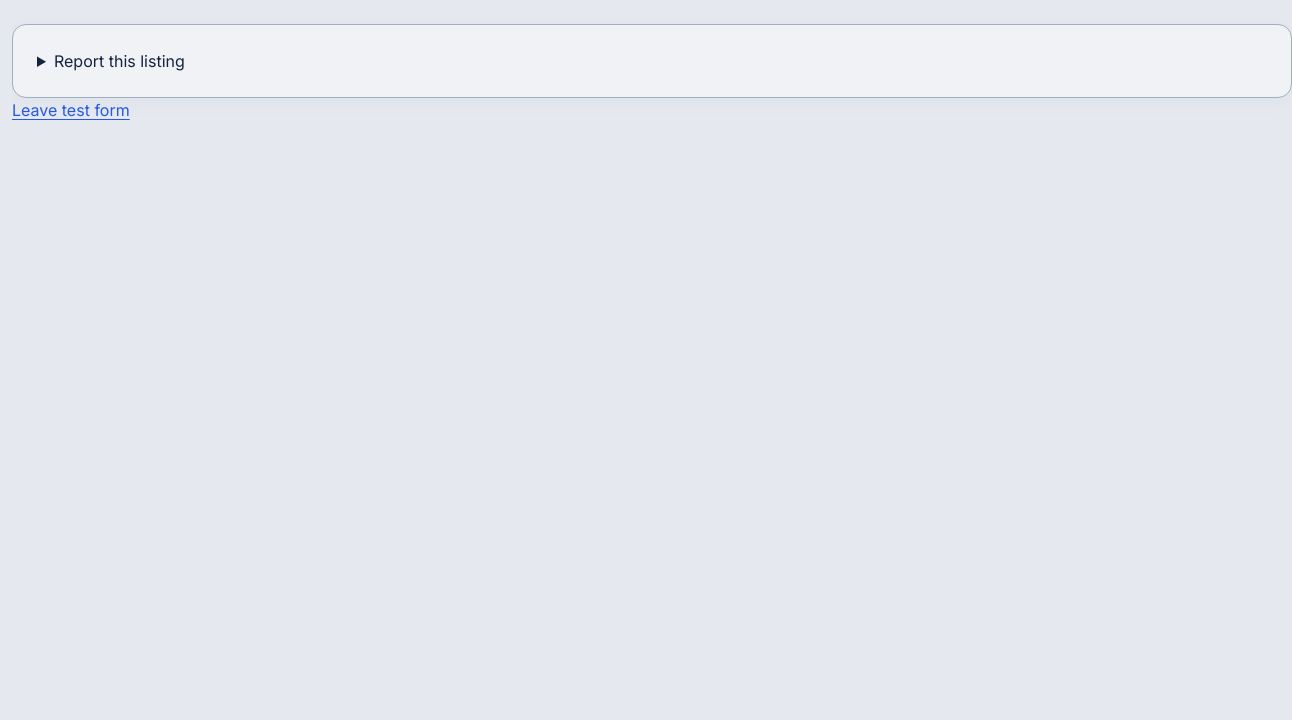
Test: moderation controls › reuses a report identifier after a failed request and shows success accessibly
The image size is (1292, 720).
Click the heading "Report this listing".
click(119, 61)  # box 54,51 -> 185,71
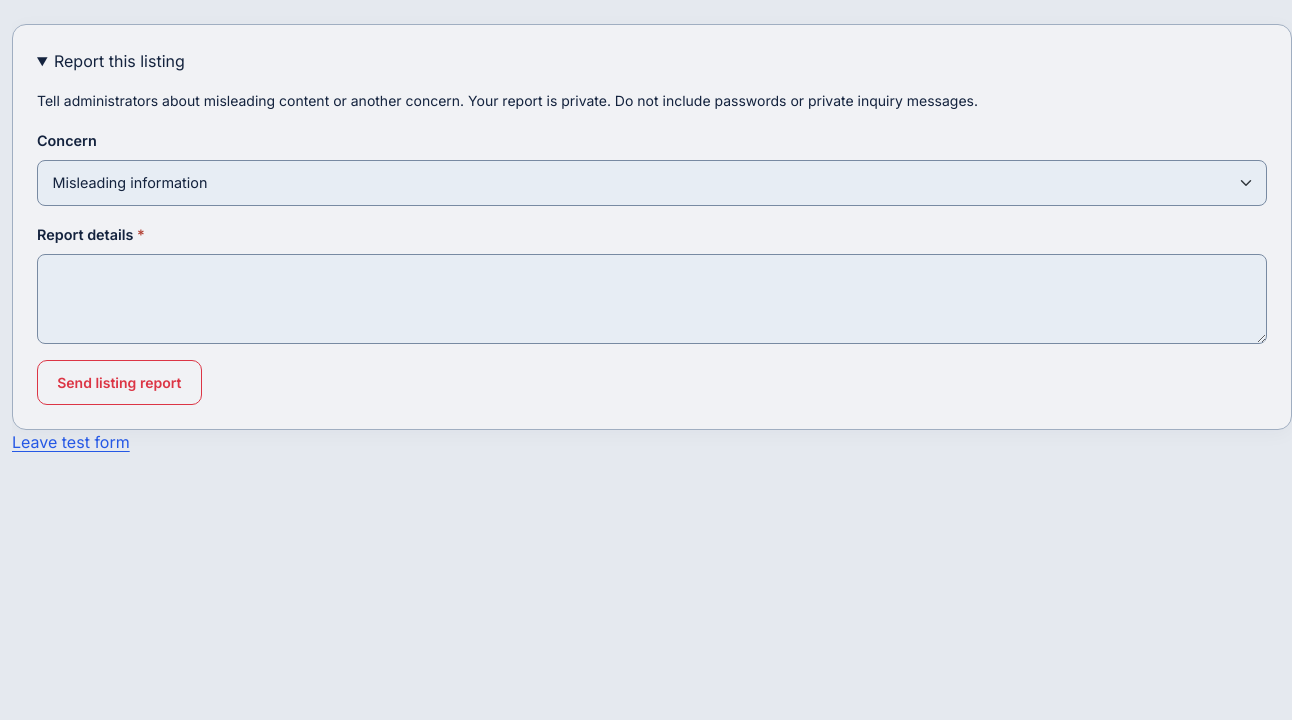
Type "Synthetic concern to review." into the text box labelled "Report details".
click(652, 299); type("Synthetic concern to review.")  # box 37,254 -> 1267,344
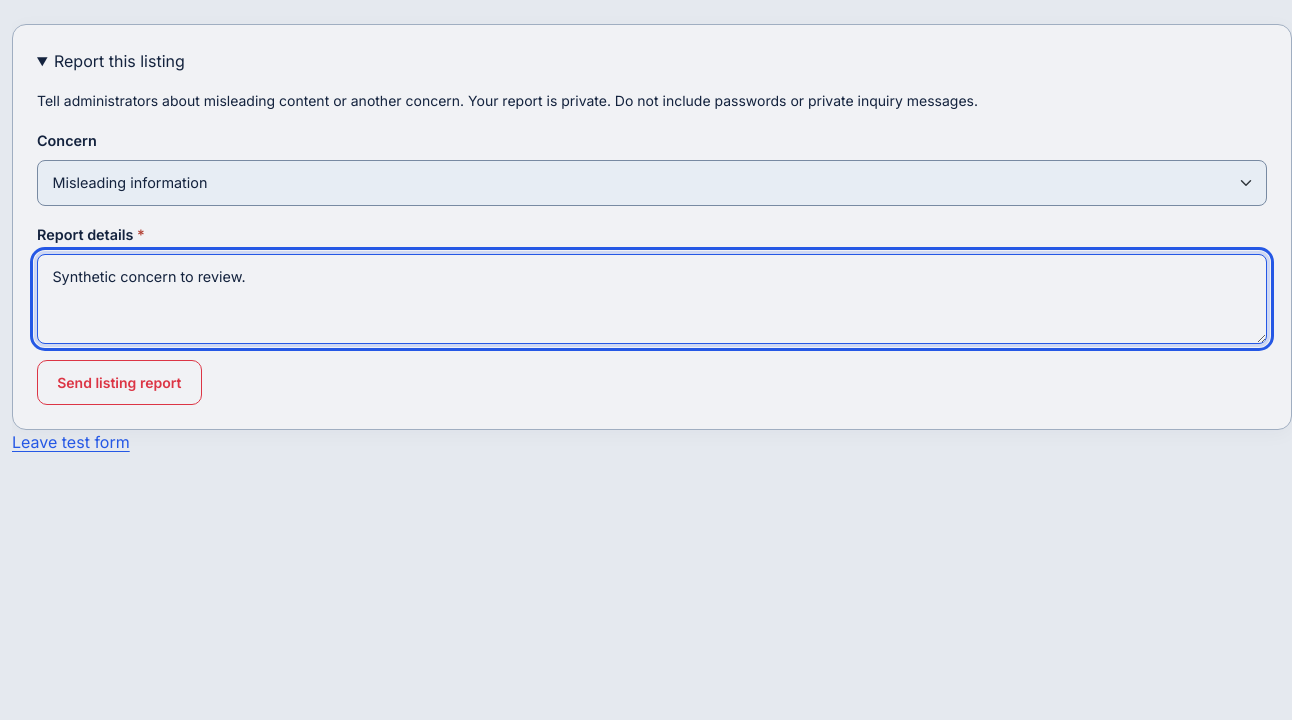
Click the button "Send listing report".
click(119, 382)  # box 37,360 -> 202,405
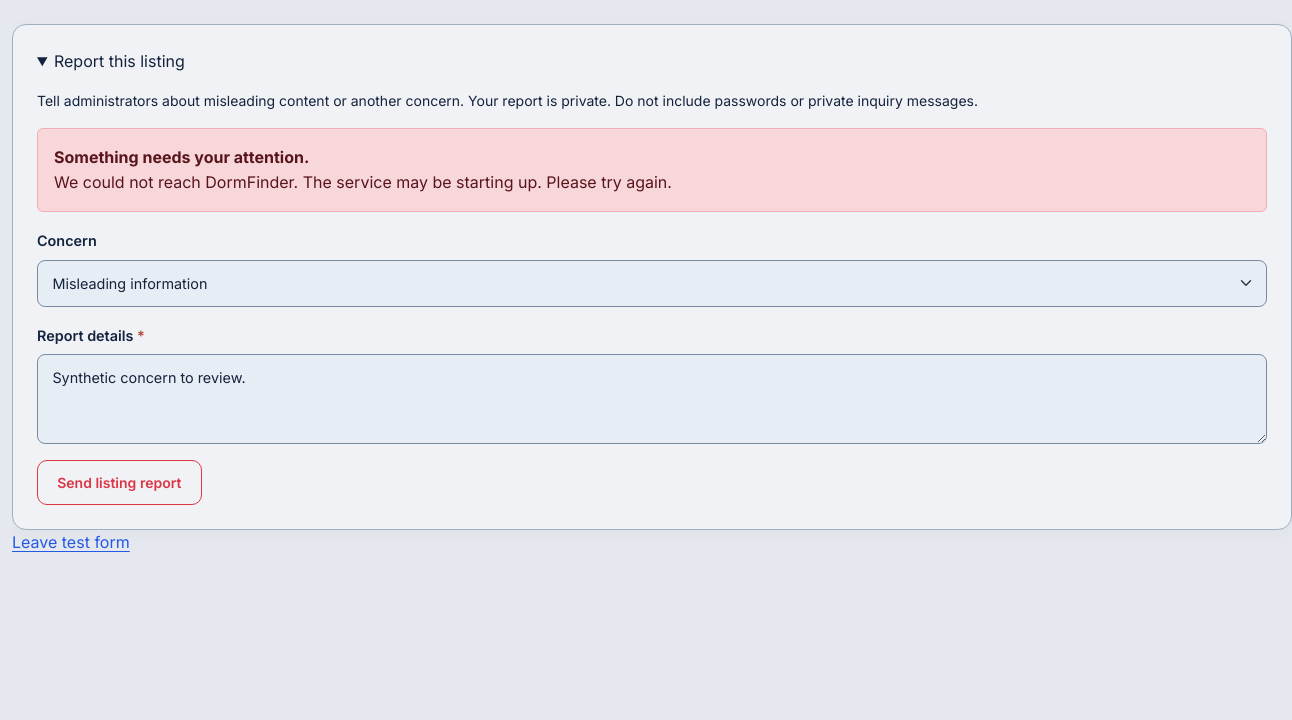
Check: the message is shown, box 37,128 -> 1267,212
Click the button "Send listing report".
click(119, 483)  # box 37,460 -> 202,506
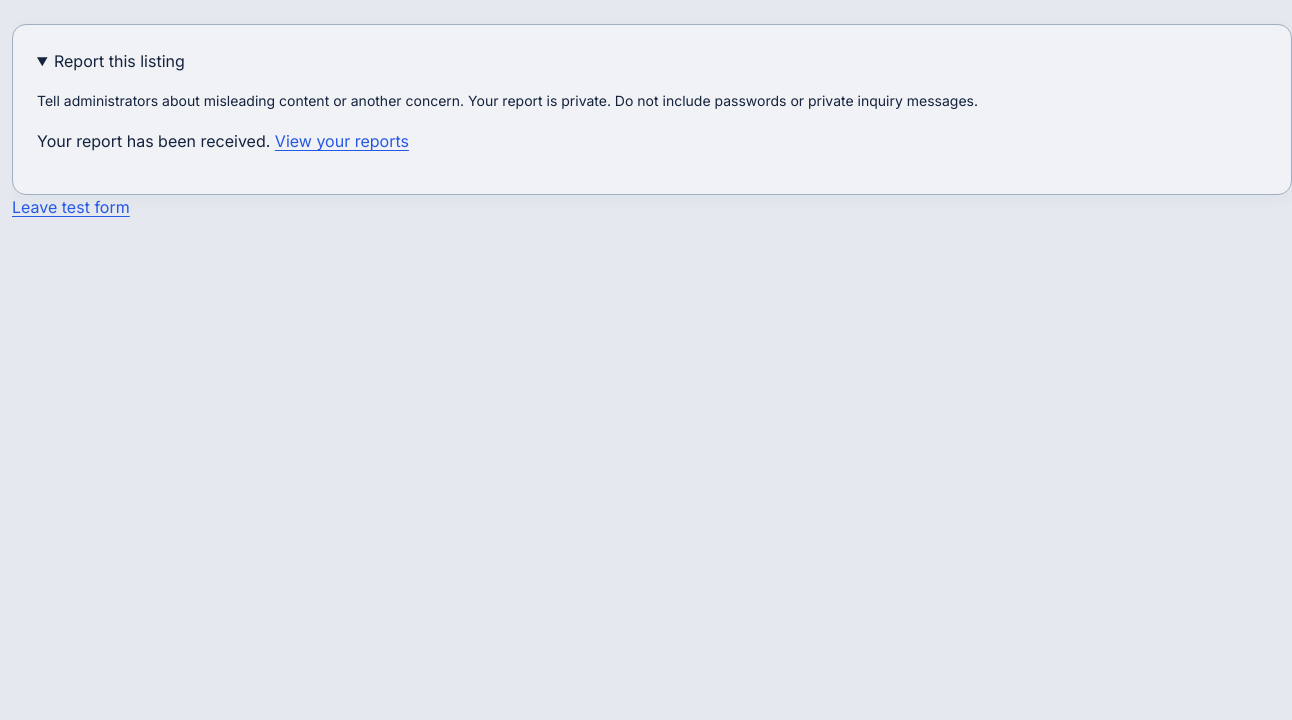
Check: the message shows "Your report has been received", box 37,131 -> 275,151
